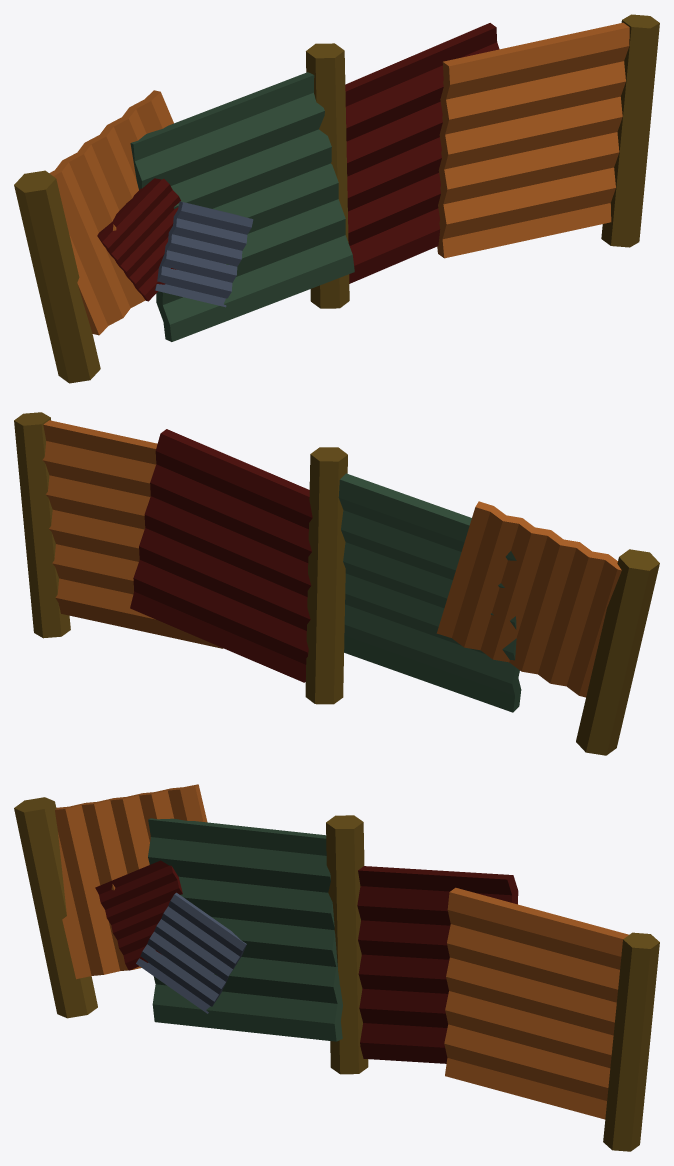
Rendered from FenceElement3.fbx.
3 views of the same model, one above another, from view 1: azimuth 30°, elevation 25°; view 2: azimuth 150°, elevation 25°; view 3: azimuth 330°, elevation 25° (orthographic). The views are drawn at different scales.
Parts seen in each view (by area): view 1: FenceElement3; view 2: FenceElement3; view 3: FenceElement3.
Boxes of the visible parts, left/top/right/bottom form: FenceElement3: left=14, top=14, right=659, bottom=383; FenceElement3: left=14, top=412, right=659, bottom=755; FenceElement3: left=14, top=784, right=659, bottom=1151.
Size of the model in its own units: 549 by 210 by 52.92.
